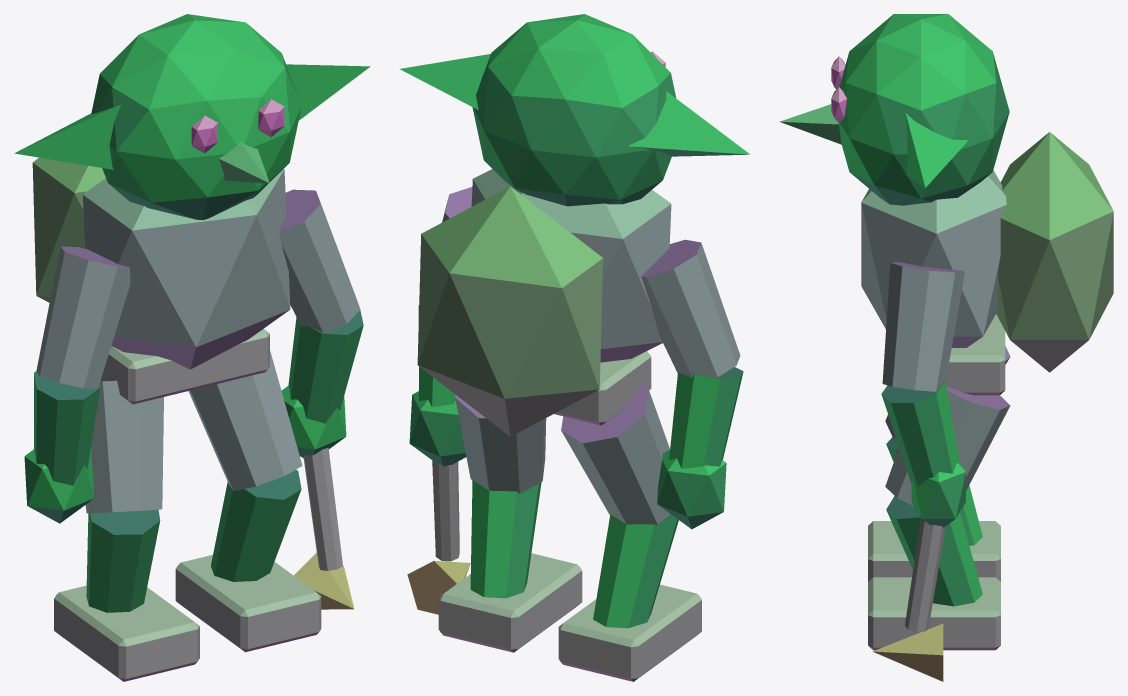
Rendered from creature_goblin_scavenger_contact_b_v01.glb.
3 renders of one model, left to right at view 1: azimuth 30°, elevation 25°; view 2: azimuth 150°, elevation 25°; view 3: azimuth 270°, elevation 25°, orthographic. The views are drawn at different scales.
Visible parts, largest first — view 1: GEO_creature_goblin_scavenger_contact_b_v01; view 2: GEO_creature_goblin_scavenger_contact_b_v01; view 3: GEO_creature_goblin_scavenger_contact_b_v01.
Boxes of the visible parts, x1,y1,x2,y2 form: GEO_creature_goblin_scavenger_contact_b_v01: [14, 14, 370, 681]; GEO_creature_goblin_scavenger_contact_b_v01: [400, 14, 749, 681]; GEO_creature_goblin_scavenger_contact_b_v01: [779, 14, 1113, 681].
Size of the model in its own units: 0.88 by 1.48 by 0.7546.
